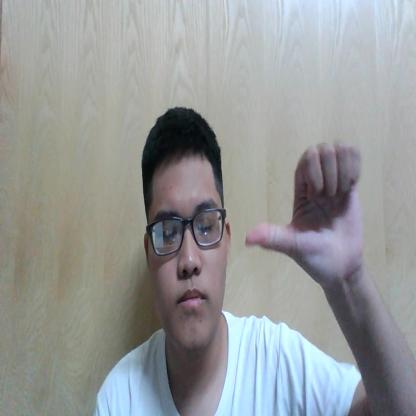right: (247, 141, 365, 276)
